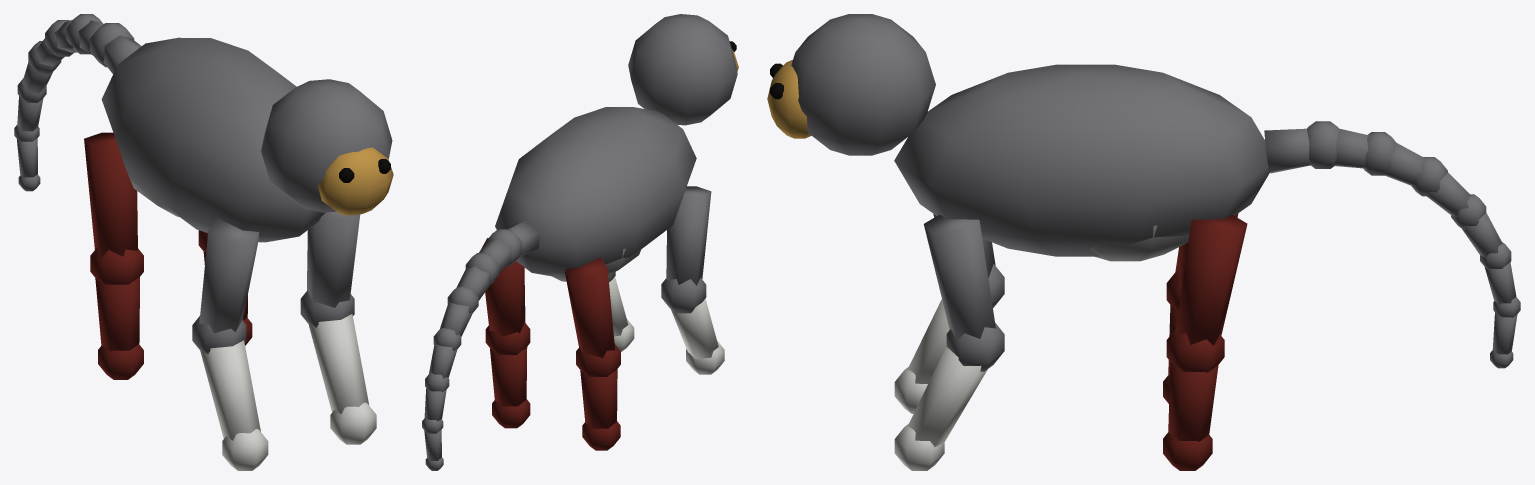
File: douc.glb
3 renders of one model, left to right at view 1: azimuth 30°, elevation 25°; view 2: azimuth 150°, elevation 25°; view 3: azimuth 270°, elevation 25°, orthographic. The views are drawn at different scales.
Parts seen in each view (by area): view 1: Primate-douc; view 2: Primate-douc; view 3: Primate-douc.
Part boxes in pixels (bbox=[...]): Primate-douc: bbox=[14, 14, 393, 470]; Primate-douc: bbox=[422, 14, 738, 470]; Primate-douc: bbox=[767, 14, 1520, 470].
Bounding box in the file's own units: 0.2473 × 0.5833 × 0.9444.
